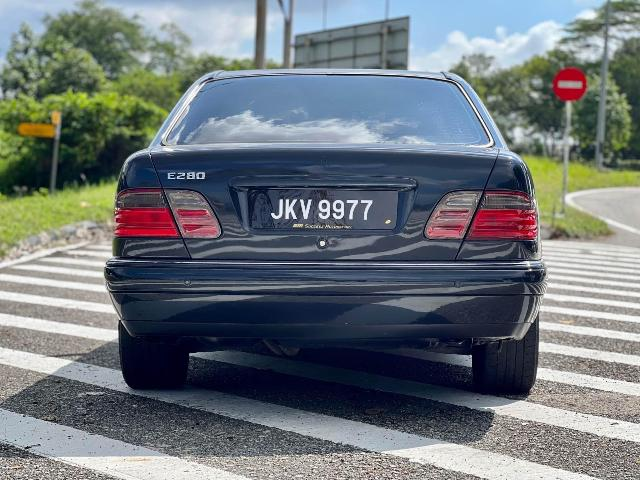License_Plate: (254, 191, 385, 227)
car: (113, 61, 543, 400)
